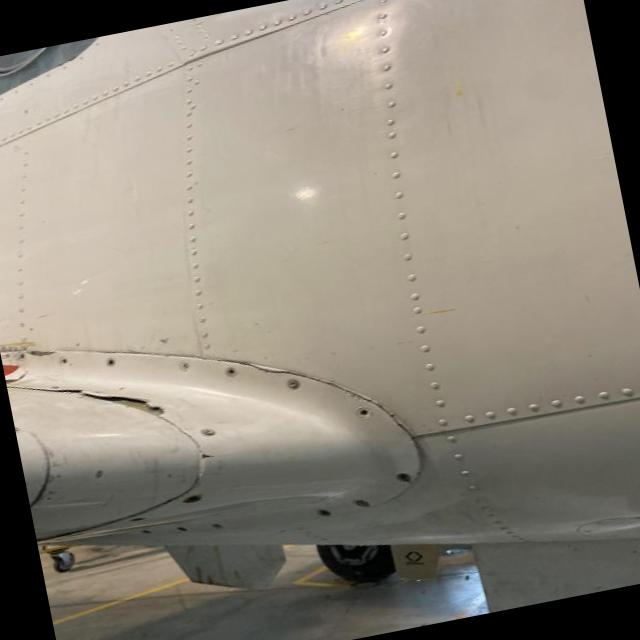Missing Fastener: (356, 404, 374, 420), (397, 470, 414, 484), (182, 493, 203, 504), (318, 507, 334, 518), (225, 364, 239, 376), (106, 356, 116, 366), (58, 356, 68, 364)
